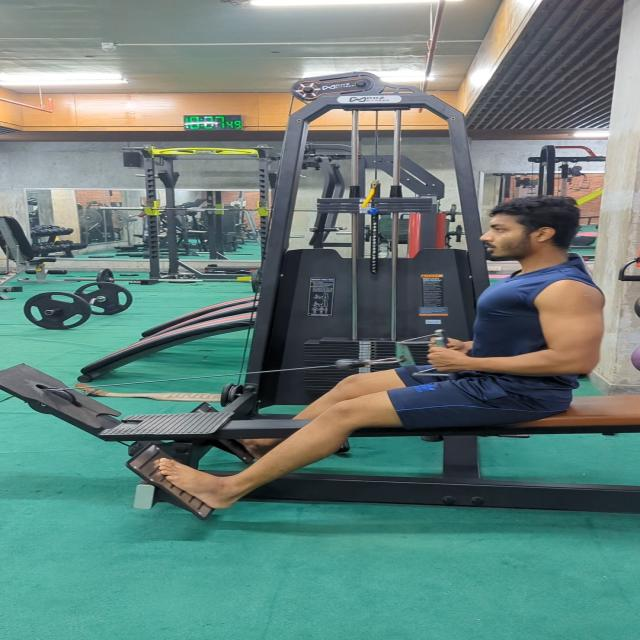Normal_RowingMachineExercise: (156, 197, 607, 510)
